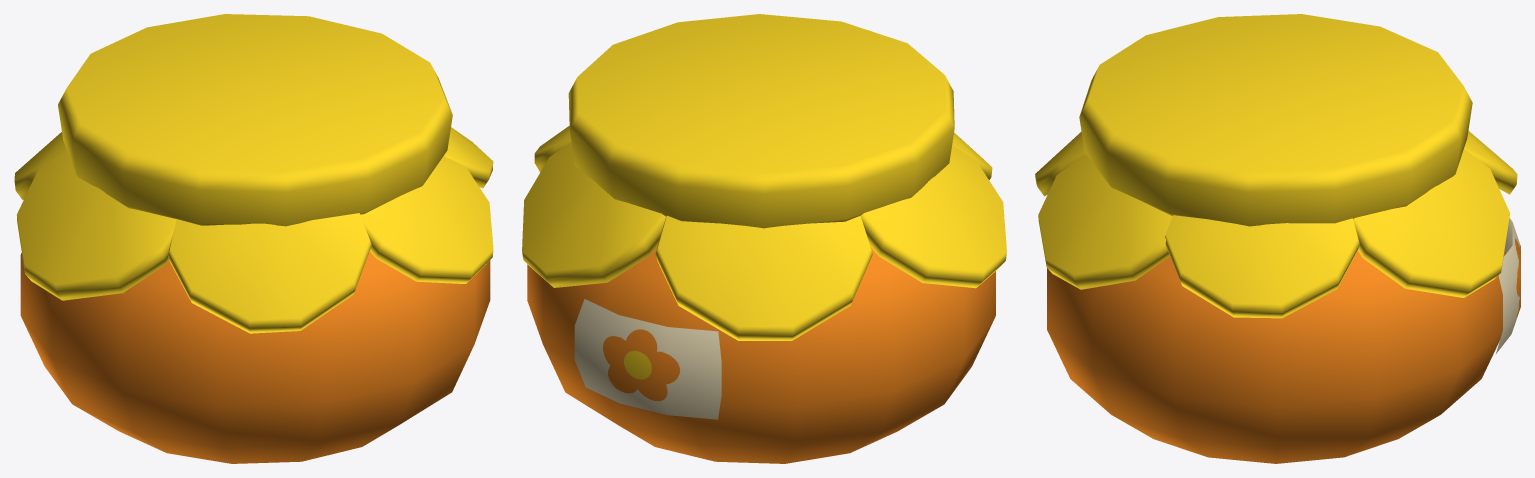
Rendered from MarmelladeFlower.fbx.
The picture shows the model from 3 angles, left to right: view 1: azimuth 30°, elevation 25°; view 2: azimuth 150°, elevation 25°; view 3: azimuth 270°, elevation 25°; orthographic projection.
Visible parts, largest first — view 1: Marmellade5, Marmellade4; view 2: Marmellade5, Marmellade4, Marmellade3; view 3: Marmellade5, Marmellade4, Marmellade3.
Part boxes in pixels (x1,y1,x2,y2): Marmellade5: [14, 14, 493, 333]; Marmellade4: [20, 251, 490, 463]; Marmellade5: [522, 14, 1006, 340]; Marmellade4: [527, 246, 995, 463]; Marmellade3: [574, 299, 721, 419]; Marmellade5: [1035, 14, 1517, 318]; Marmellade4: [1047, 249, 1504, 463]; Marmellade3: [1496, 218, 1520, 353].
Bounding box in the file's own units: 1.76 × 1.15 × 1.67.
